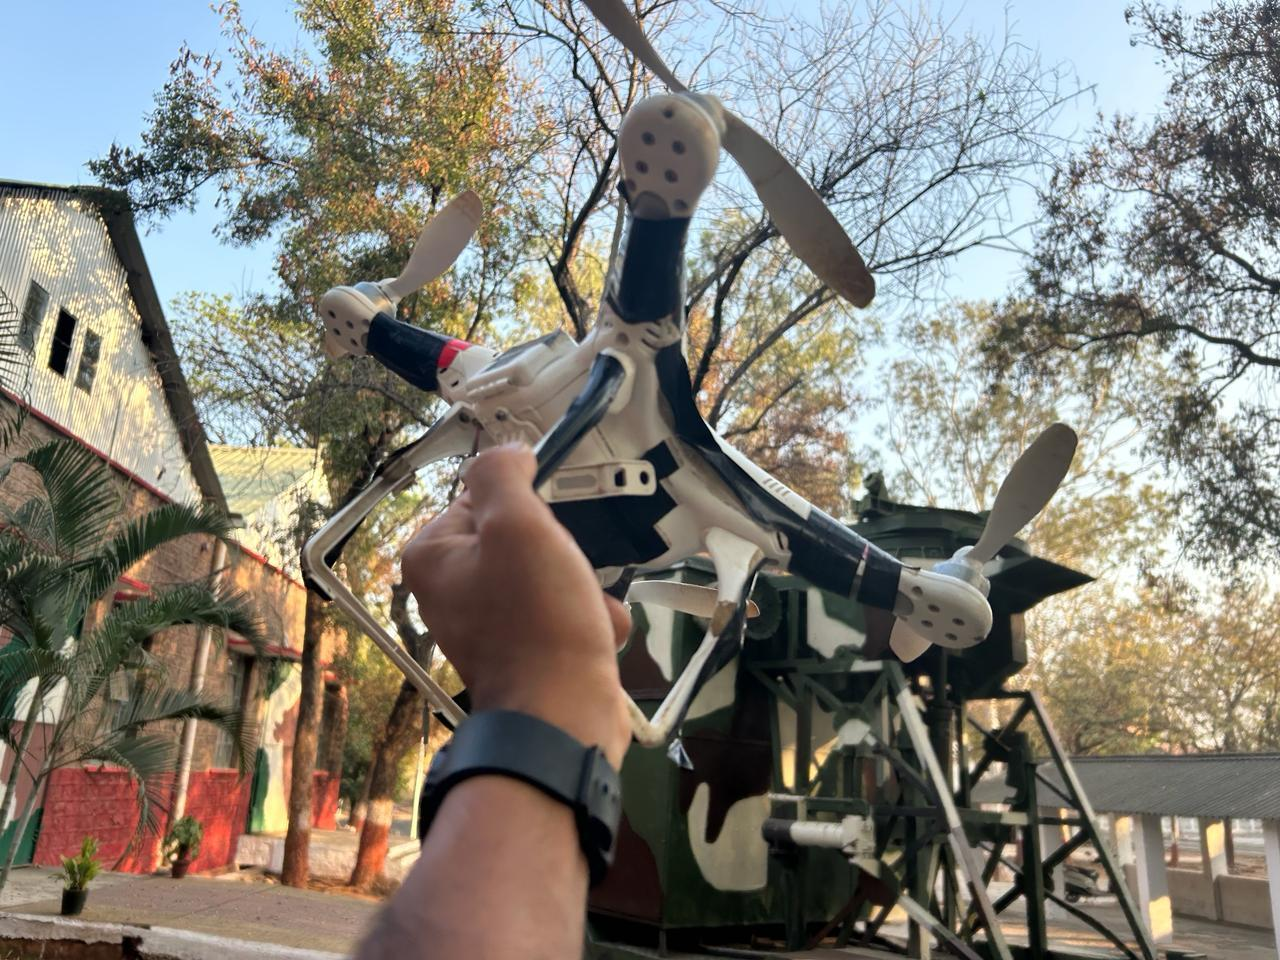drone: (108, 10, 1129, 817)
